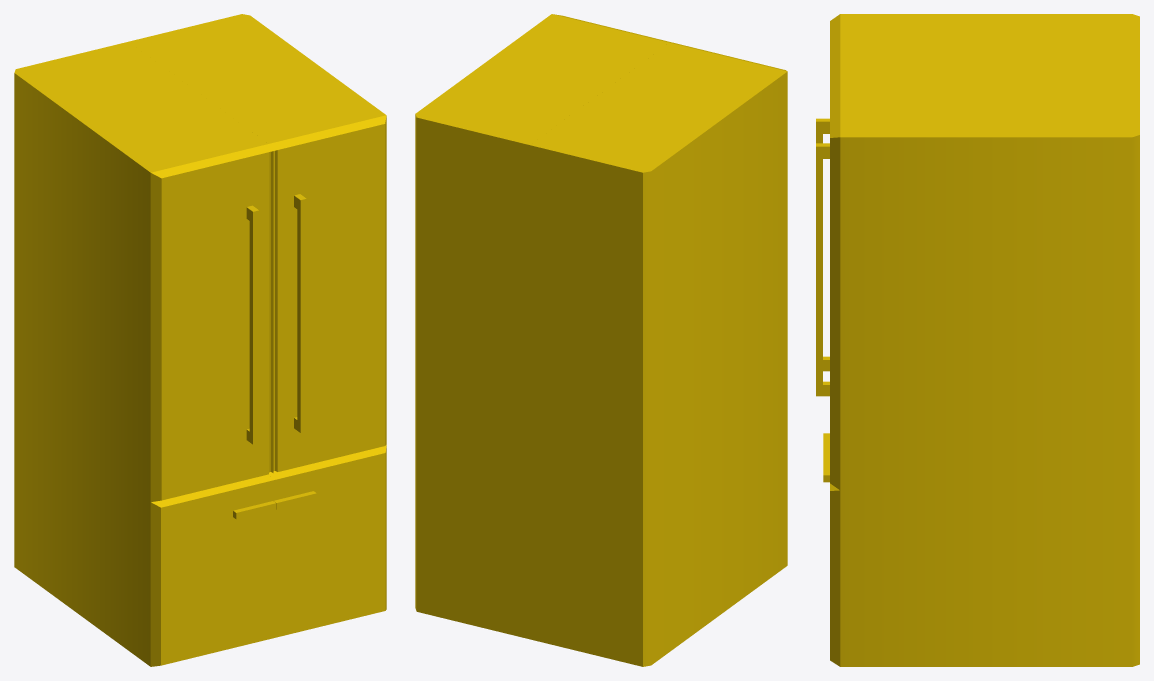
Rendered from Fridge_2.FBX.
3 renders of one model, left to right at view 1: azimuth 30°, elevation 25°; view 2: azimuth 150°, elevation 25°; view 3: azimuth 270°, elevation 25°, orthographic. The views are drawn at different scales.
Parts seen in each view (by area): view 1: Box001; view 2: Box001; view 3: Box001.
Boxes of the visible parts, <box> form: Box001: <box>14,14,386,666</box>; Box001: <box>415,14,787,666</box>; Box001: <box>816,14,1139,666</box>.
Bounding box in the file's own units: 1.48 × 2.96 × 1.64.
